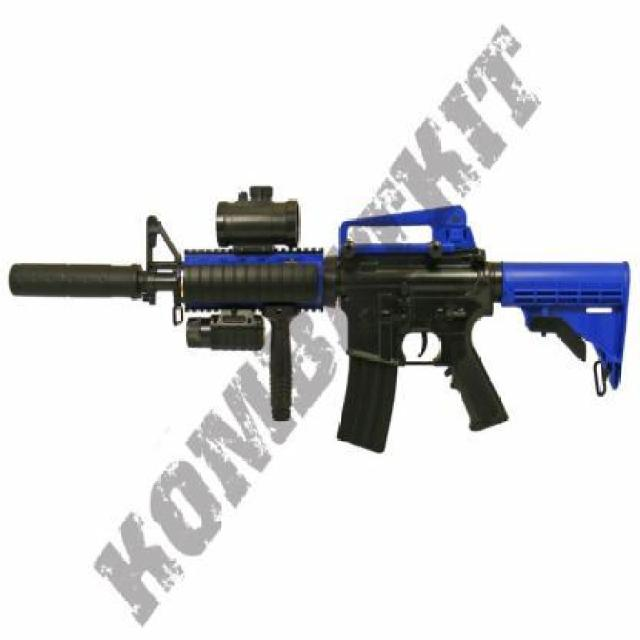weapon: (3, 177, 640, 470)
